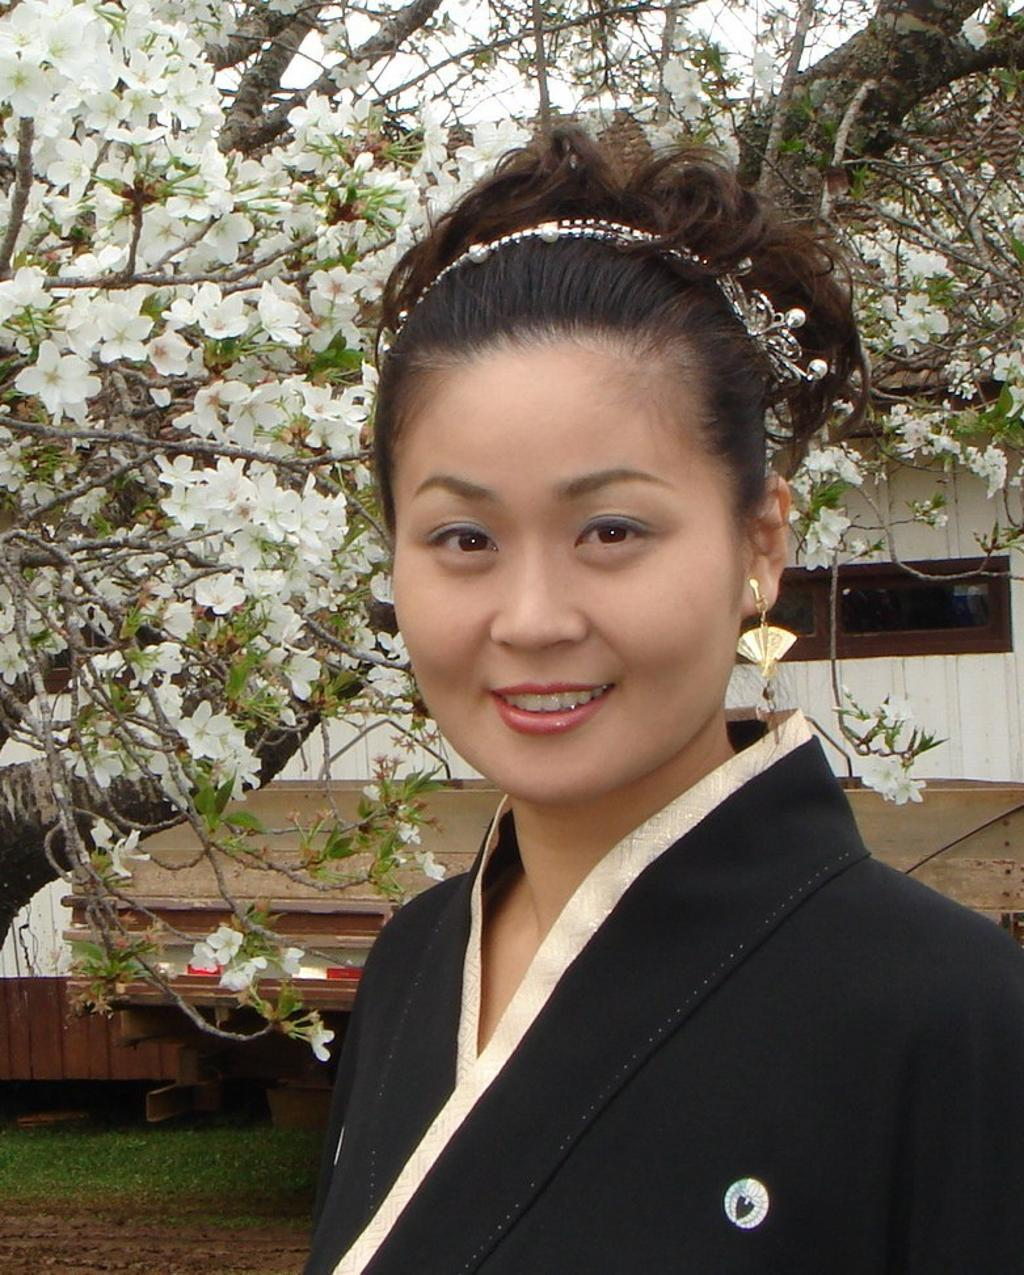face: (387, 332, 741, 795)
